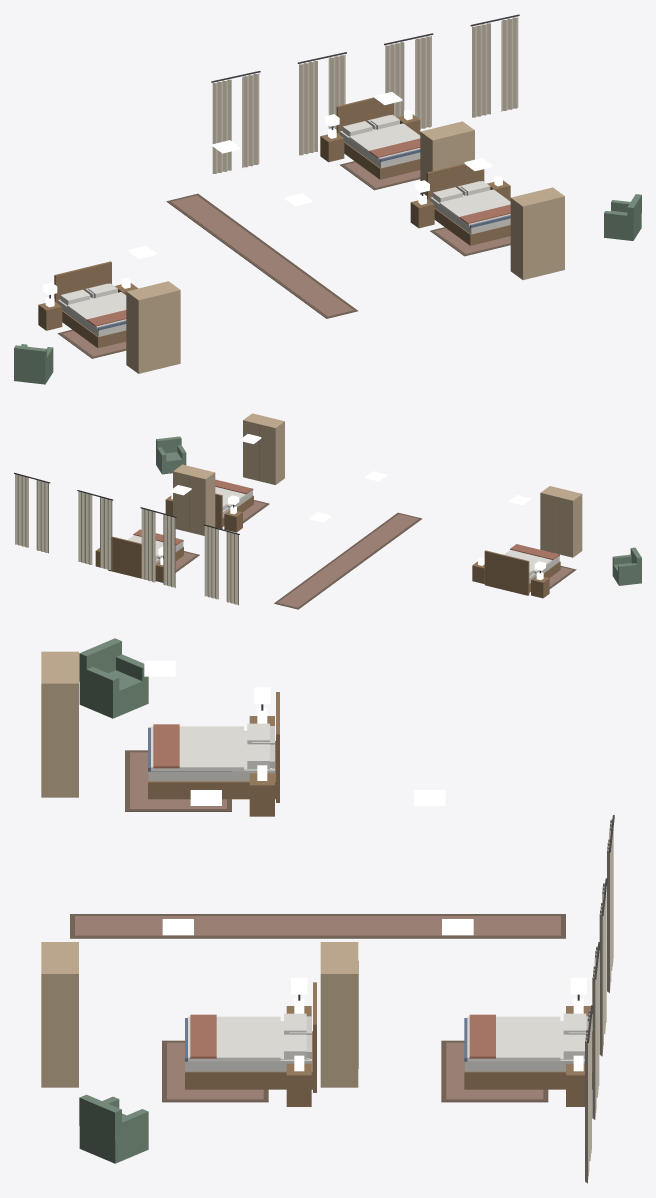
Rendered from fine-s2.glb.
3 views of the same model, one above another, from view 1: azimuth 30°, elevation 25°; view 2: azimuth 150°, elevation 25°; view 3: azimuth 270°, elevation 25° (orthographic). The views are drawn at different scales.
Parts seen in each view (by area): view 1: soft-s2, dresser.003, dresser.005, bed-frame.005, bed-frame.004, bed-frame.003, dresser.004, lounge-chair.003, lounge-chair.002, nightstand.006, nightstand.010, nightstand.008; view 2: soft-s2, dresser.003, dresser.005, dresser.004, bed-frame.003, bed-frame.004, lounge-chair.003, lounge-chair.002, bed-frame.005, nightstand.006, nightstand.010, nightstand.007; view 3: soft-s2, dresser.004, dresser.003, dresser.005, lounge-chair.002, bed-frame.005, lounge-chair.003, bed-frame.003, bed-frame.004, nightstand.007, nightstand.011, nightstand.009.
Boxes of the visible parts, <box> form: soft-s2: <box>43,14,519,358</box>; dresser.003: <box>126,281,180,373</box>; dresser.005: <box>510,187,564,279</box>; bed-frame.005: <box>426,163,510,245</box>; bed-frame.004: <box>336,97,420,179</box>; bed-frame.003: <box>54,261,126,348</box>; dresser.004: <box>420,121,474,195</box>; lounge-chair.003: <box>604,194,641,240</box>; lounge-chair.002: <box>14,344,53,384</box>; nightstand.006: <box>38,296,62,330</box>; nightstand.010: <box>410,194,434,228</box>; nightstand.008: <box>320,128,344,162</box>; soft-s2: <box>14,472,576,609</box>; dresser.003: <box>540,486,582,557</box>; dresser.005: <box>243,413,284,484</box>; dresser.004: <box>173,464,215,535</box>; bed-frame.003: <box>484,550,560,595</box>; bed-frame.004: <box>108,536,183,580</box>; lounge-chair.003: <box>156,436,186,474</box>; lounge-chair.002: <box>612,547,641,585</box>; bed-frame.005: <box>215,489,253,528</box>; nightstand.006: <box>531,572,549,598</box>; nightstand.010: <box>224,506,242,532</box>; nightstand.007: <box>472,557,484,583</box>; soft-s2: <box>70,687,614,1183</box>; dresser.004: <box>320,942,358,1087</box>; dresser.003: <box>41,651,78,797</box>; dresser.005: <box>41,942,78,1087</box>; lounge-chair.002: <box>79,638,148,718</box>; bed-frame.005: <box>185,982,316,1092</box>; lounge-chair.003: <box>79,1094,148,1163</box>; bed-frame.003: <box>148,692,279,802</box>; bed-frame.004: <box>464,1016,592,1089</box>; nightstand.007: <box>249,765,274,816</box>; nightstand.011: <box>286,1055,311,1106</box>; nightstand.009: <box>566,1055,584,1106</box>.
Size of the model in its own units: 18.71 by 2.56 by 9.12.
